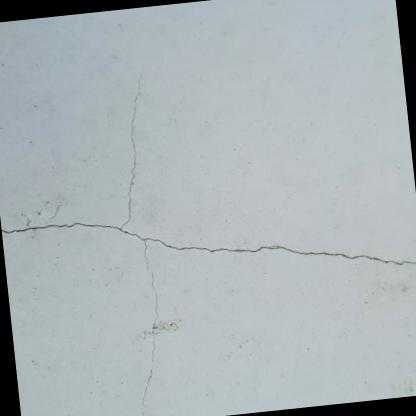crack: (1, 78, 416, 268)
